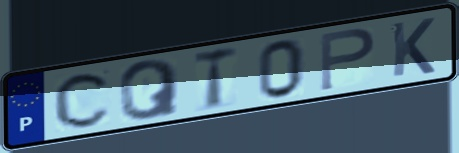0: (254, 36, 307, 102)
C: (51, 70, 115, 131)
K: (389, 15, 438, 80)
P: (317, 26, 378, 94)
Q: (116, 57, 183, 122)
T: (191, 44, 240, 113)
